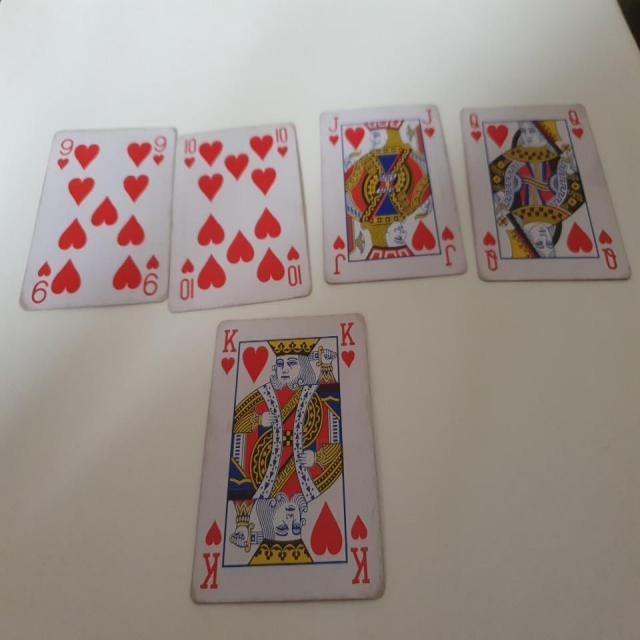10 Hearts: (172, 121, 313, 316)
9 Hearts: (13, 125, 176, 314)
J Hearts: (314, 97, 470, 289)
K Hearts: (190, 308, 388, 598)
Q Hearts: (456, 92, 634, 282)
